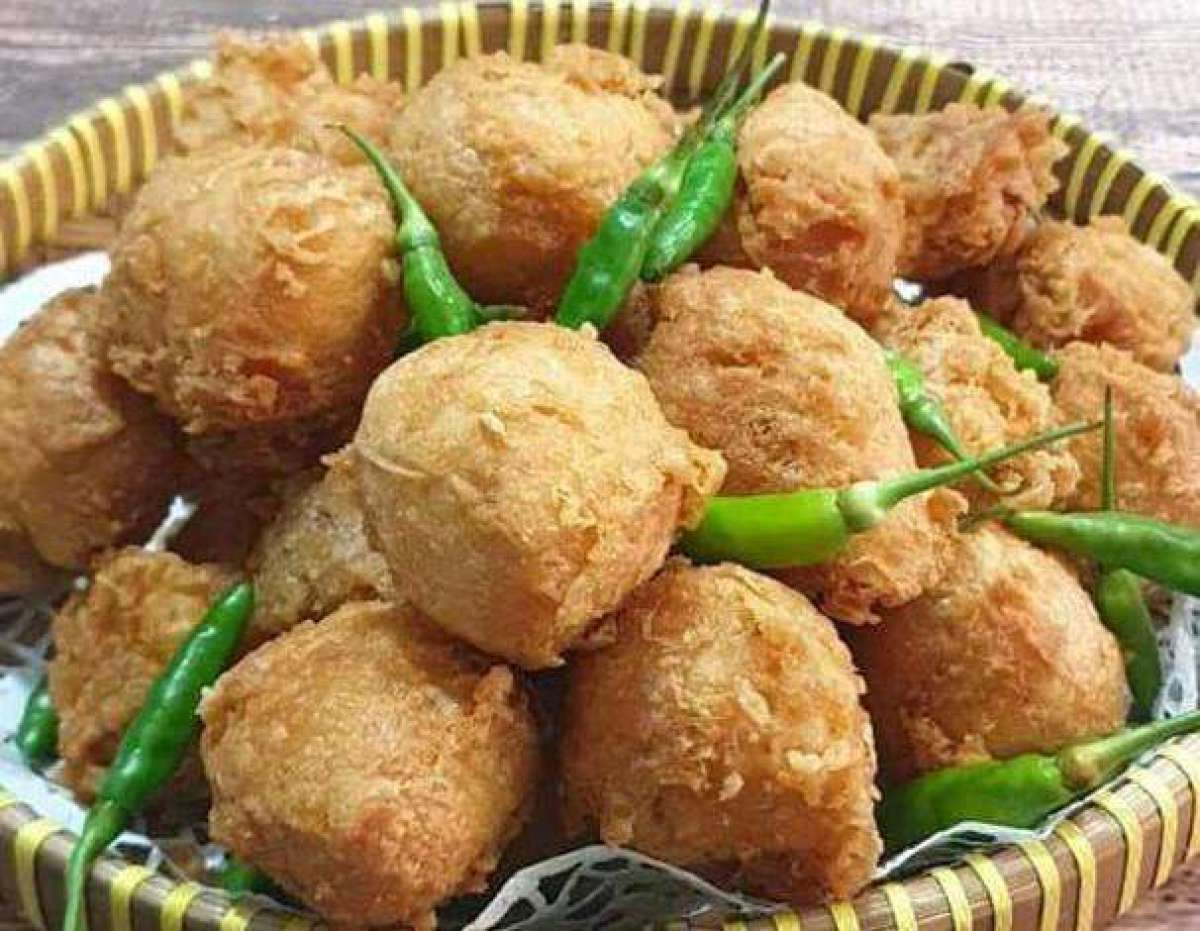Tahu: (527, 554, 908, 859), (331, 338, 666, 598), (214, 609, 542, 861), (596, 291, 907, 550), (394, 67, 658, 306), (127, 145, 351, 422), (902, 504, 1107, 756), (879, 106, 1080, 261), (715, 105, 897, 241)
